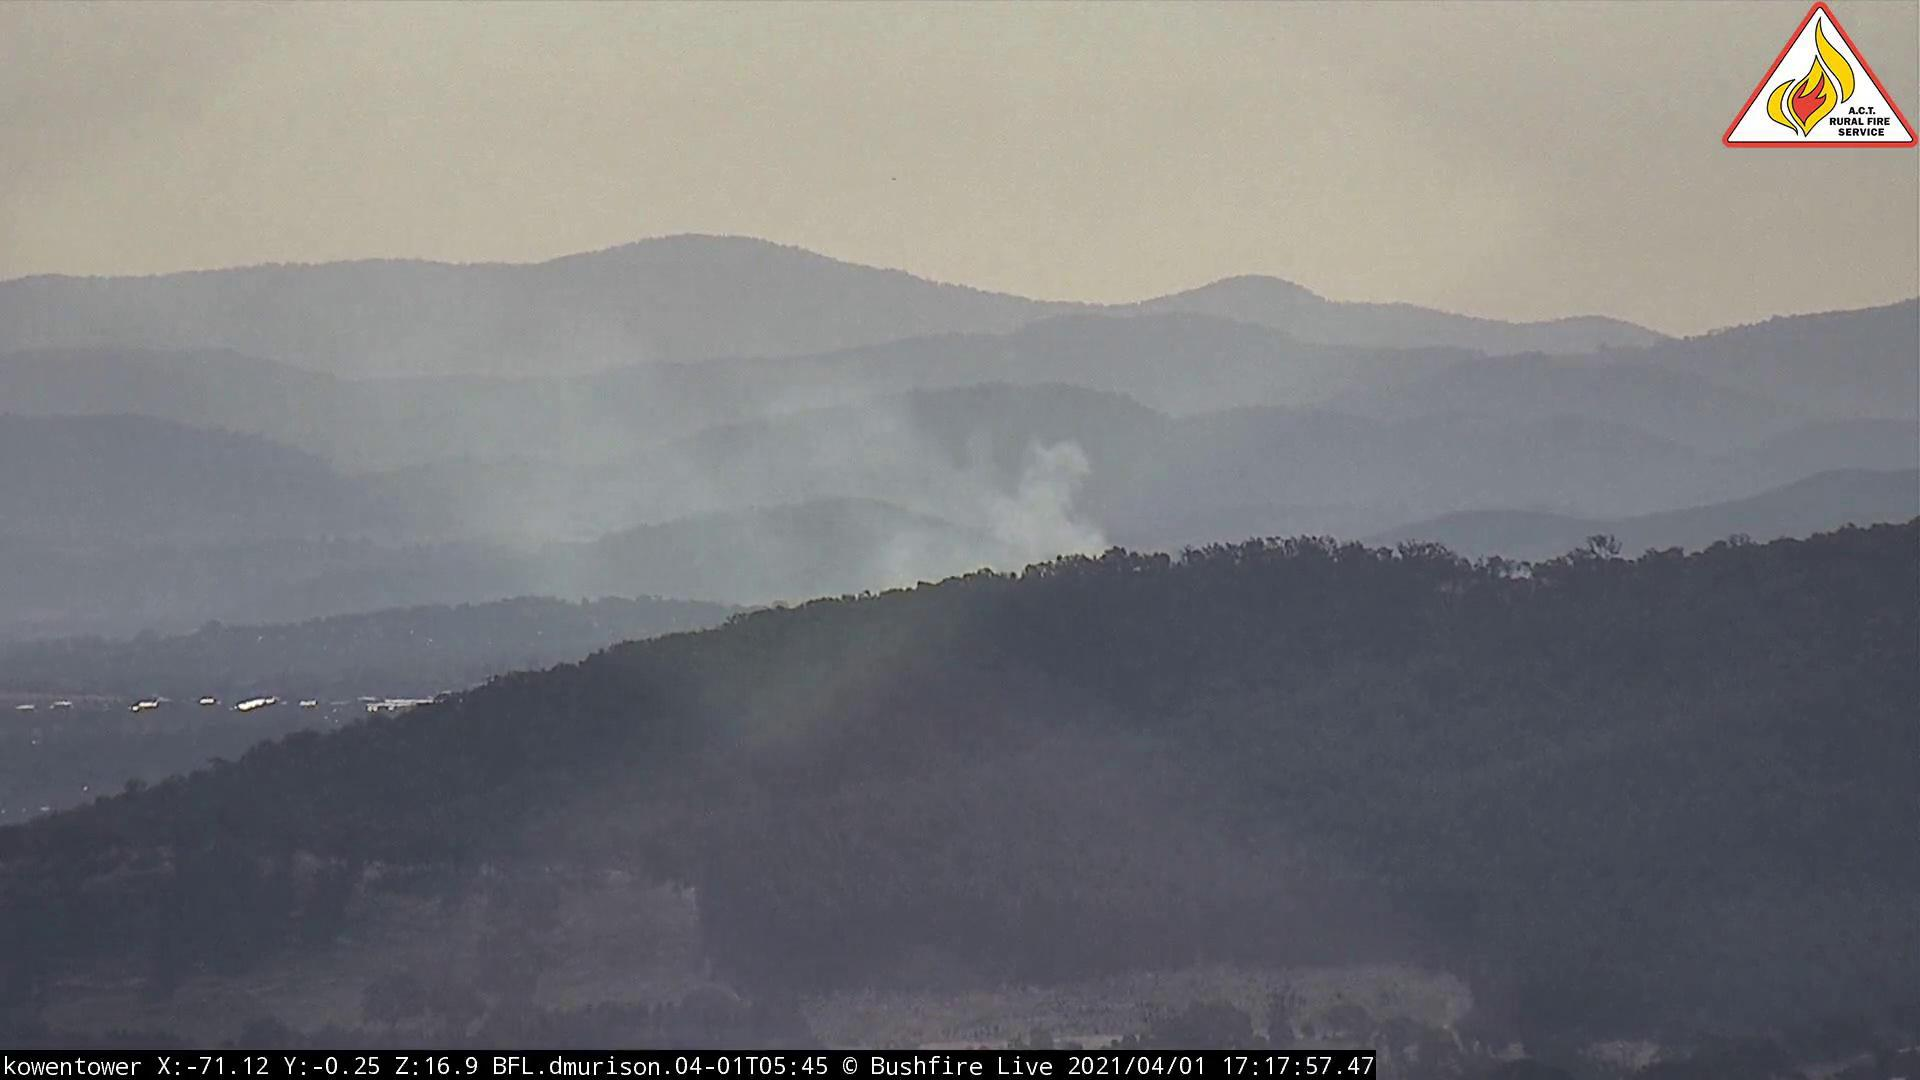Smoke: (452, 301, 1114, 647)
